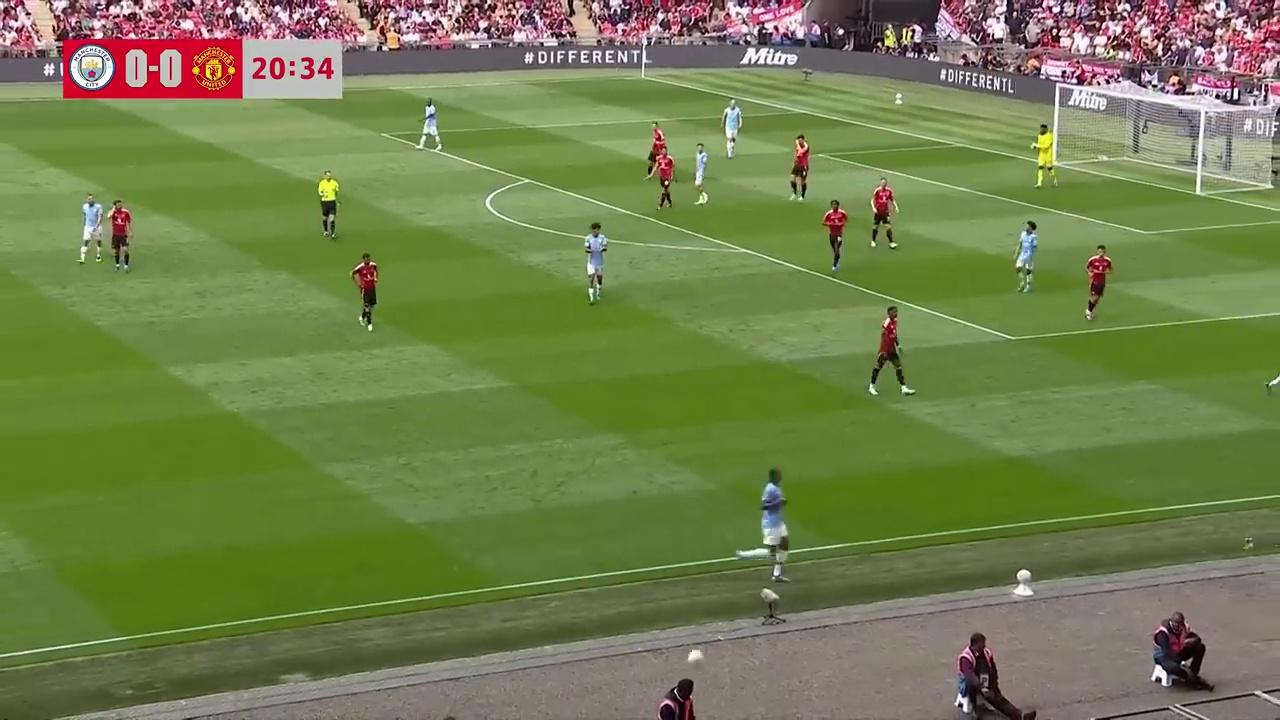player: (733, 466, 789, 584), (866, 305, 915, 397), (1084, 244, 1113, 320), (350, 252, 378, 330), (870, 179, 898, 250), (77, 194, 105, 265), (584, 222, 608, 303), (822, 199, 847, 271), (108, 200, 132, 272), (1032, 123, 1058, 188), (1015, 221, 1038, 294), (789, 134, 810, 201), (720, 99, 743, 159), (417, 99, 442, 150), (654, 149, 675, 208), (646, 122, 665, 178), (693, 143, 709, 205), (1264, 353, 1280, 402)
referee: (317, 170, 340, 239)
